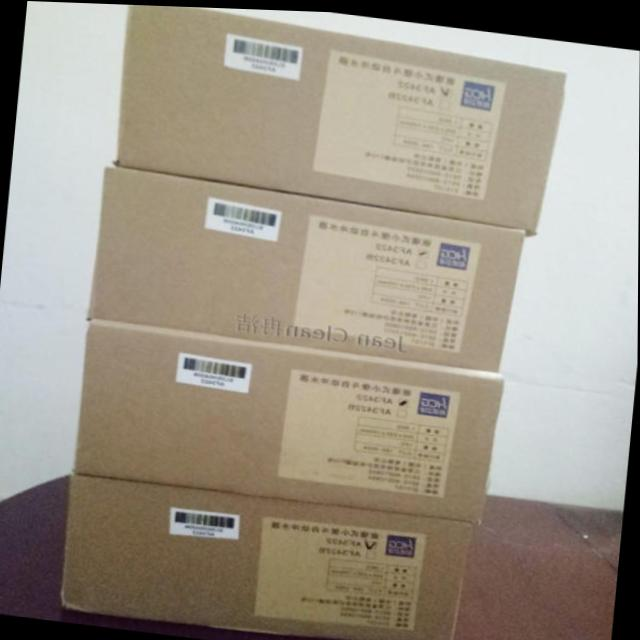box: (116, 4, 568, 231), (90, 165, 525, 367), (73, 319, 504, 520), (59, 473, 477, 640)
